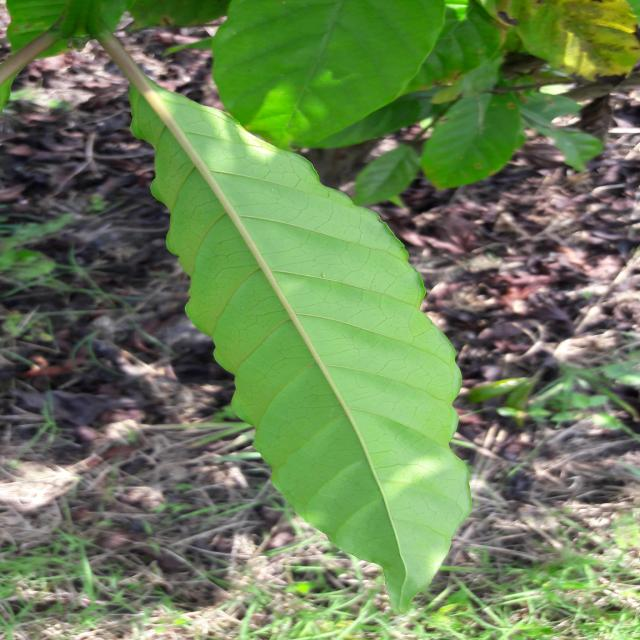Sanas: (99, 14, 473, 614)
